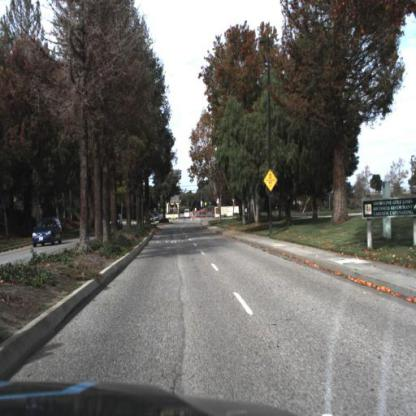biker: (191, 208, 198, 226)
car: (33, 216, 64, 248)
